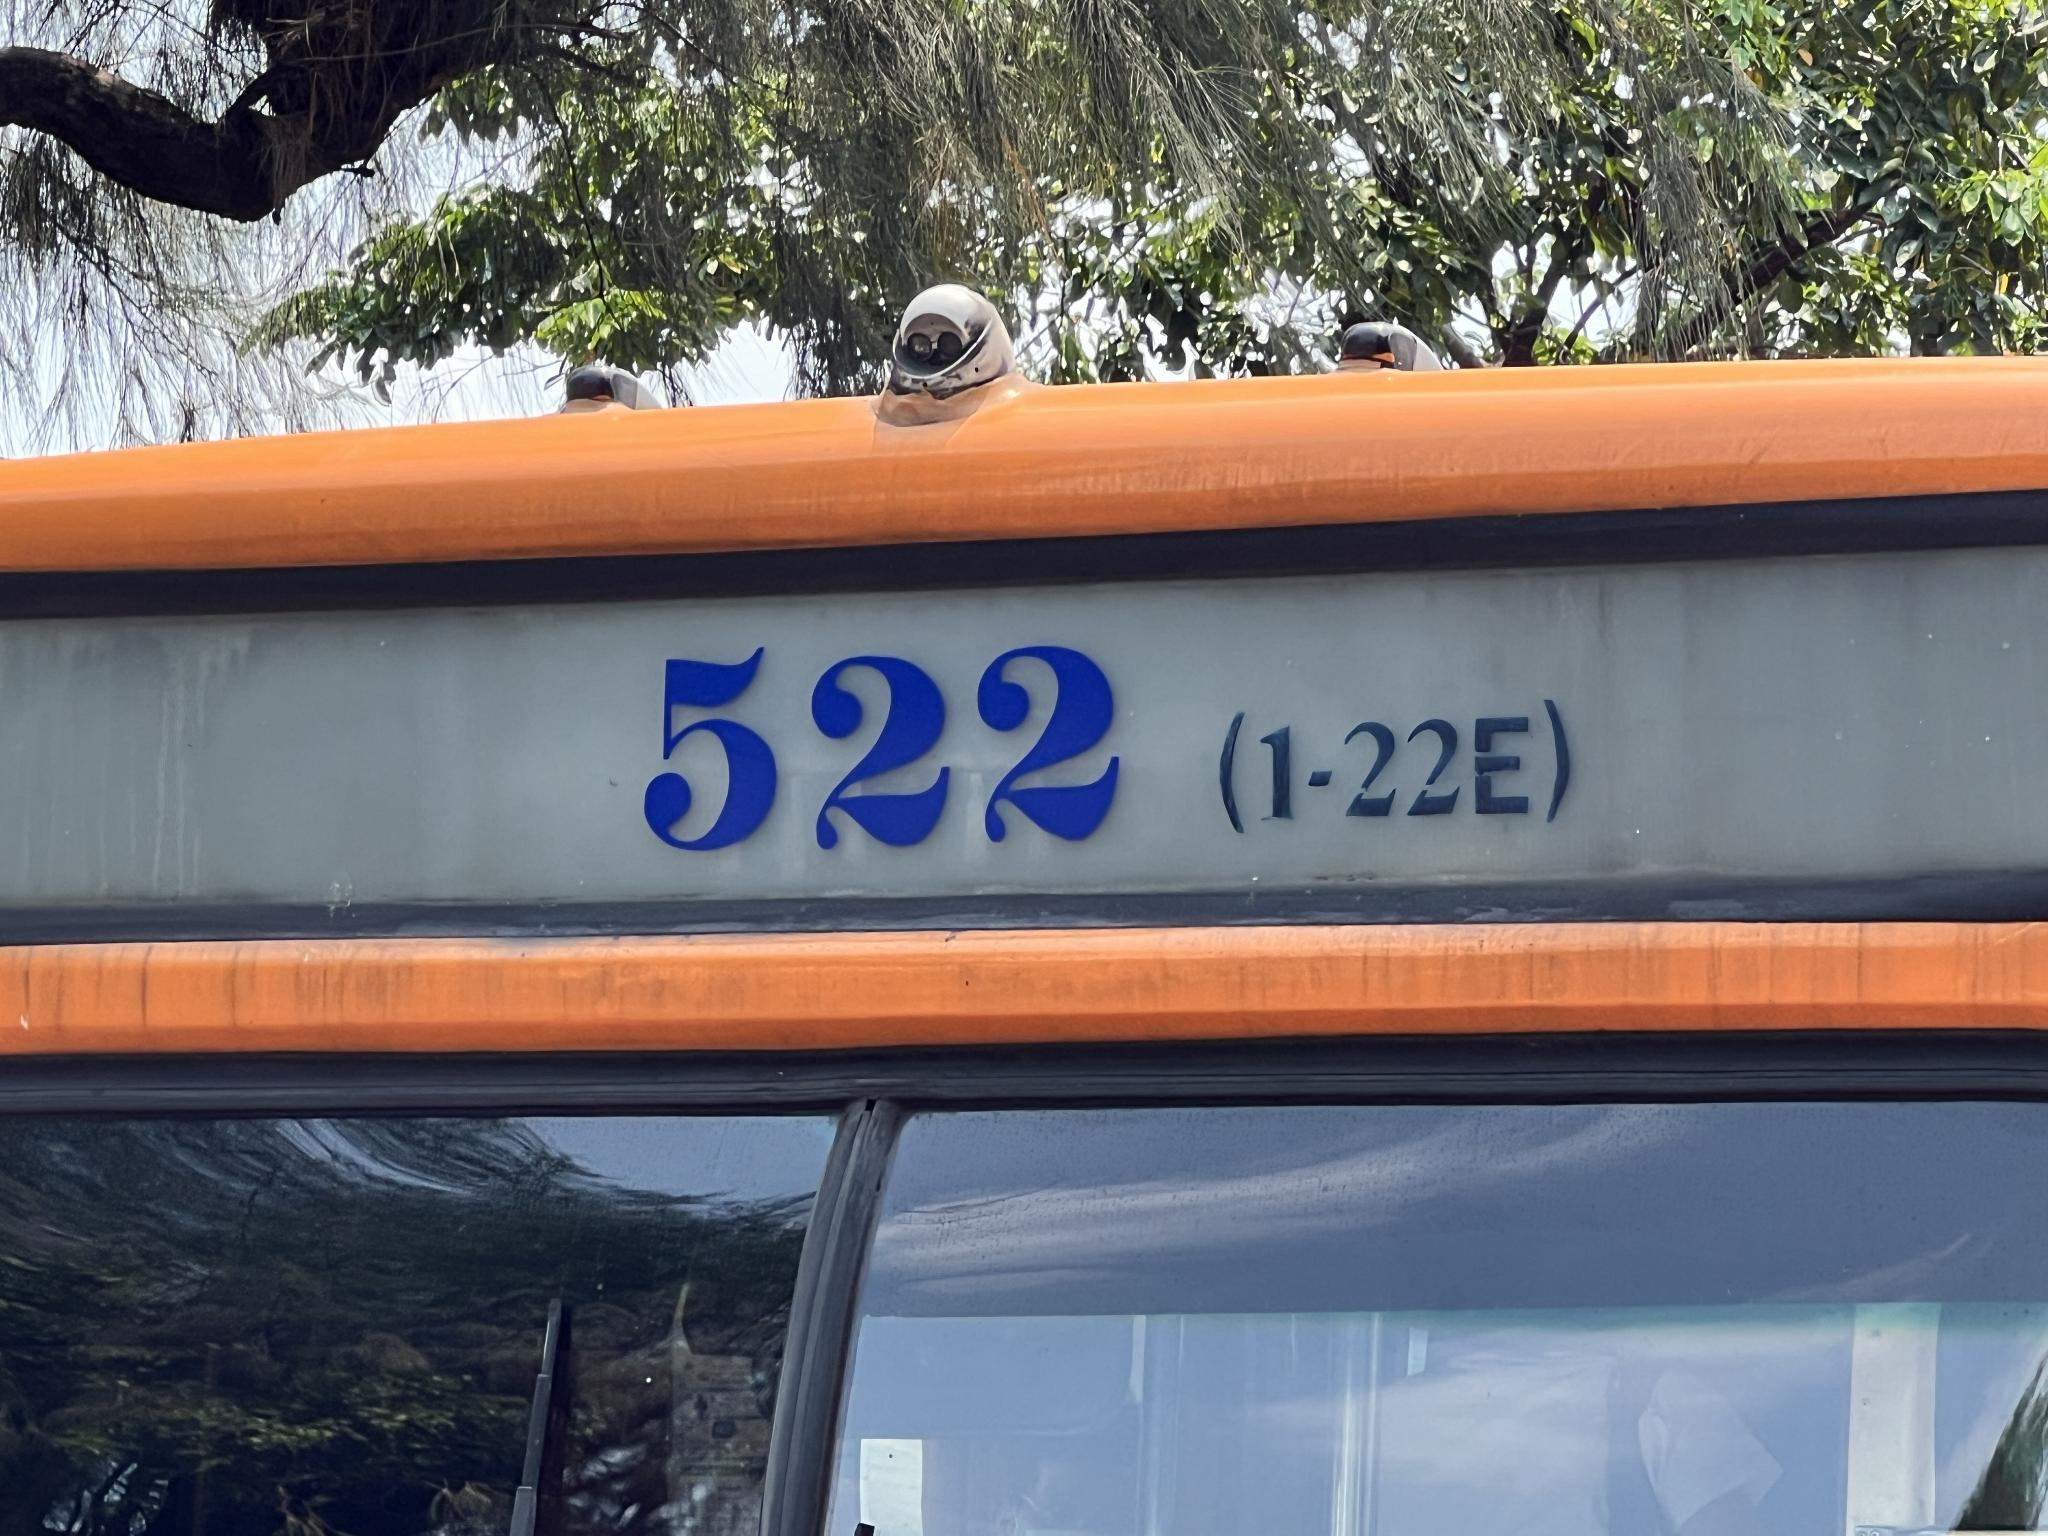BMTA-bus: (0, 266, 2048, 1536)
Bus Line Number: (601, 592, 1588, 865)
